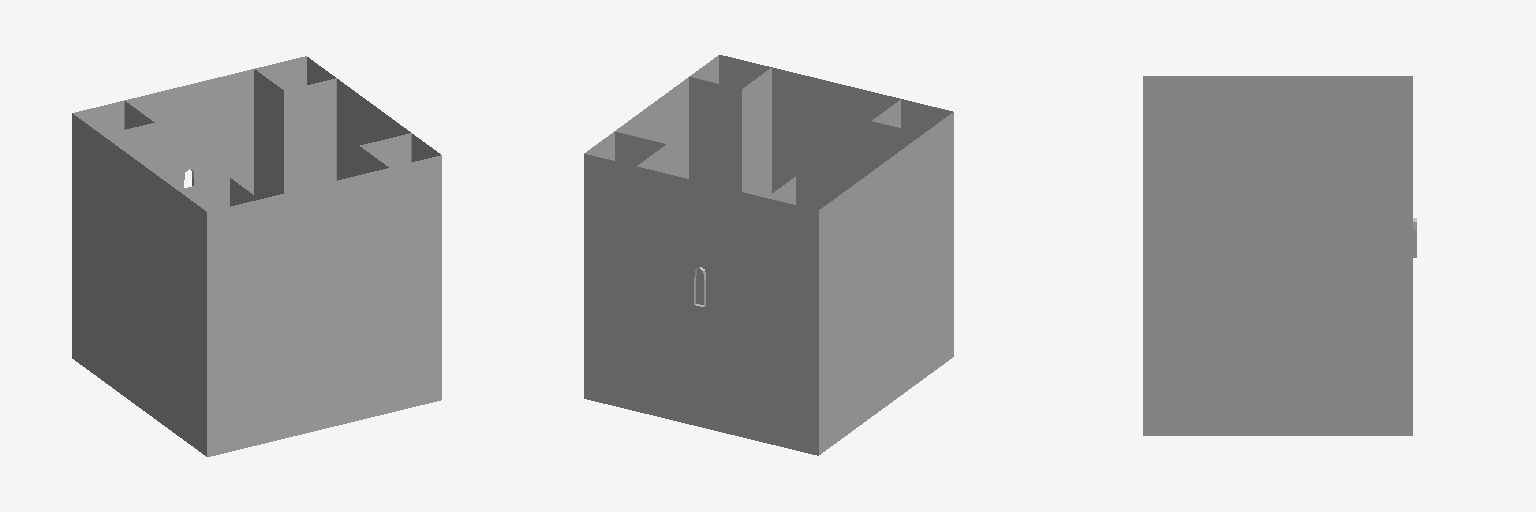
File: lwjglfloorwindow.obj
The picture shows the model from 3 angles: view 1: azimuth 30°, elevation 25°; view 2: azimuth 150°, elevation 25°; view 3: azimuth 270°, elevation 25°; orthographic projection.
Visible parts, largest first — view 1: Grid_Grid.001; view 2: Grid_Grid.001; view 3: Grid_Grid.001.
Part boxes in pixels (x1,y1,x2,y2): Grid_Grid.001: (72, 56, 441, 456); Grid_Grid.001: (584, 55, 953, 455); Grid_Grid.001: (1143, 76, 1416, 435).
Size of the model in its own units: 40 by 40 by 40.6.